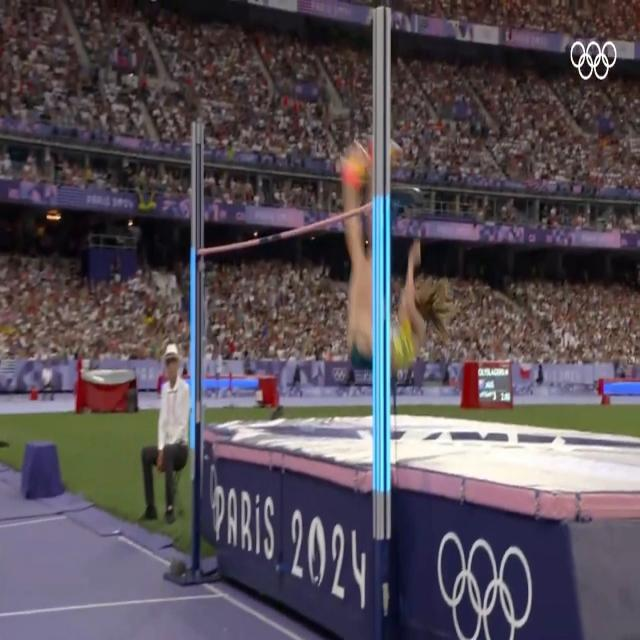land: (341, 147, 435, 377)
